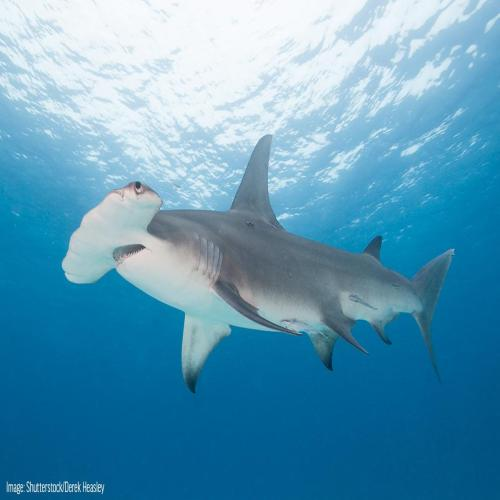shark-endangered: (63, 132, 454, 394)
